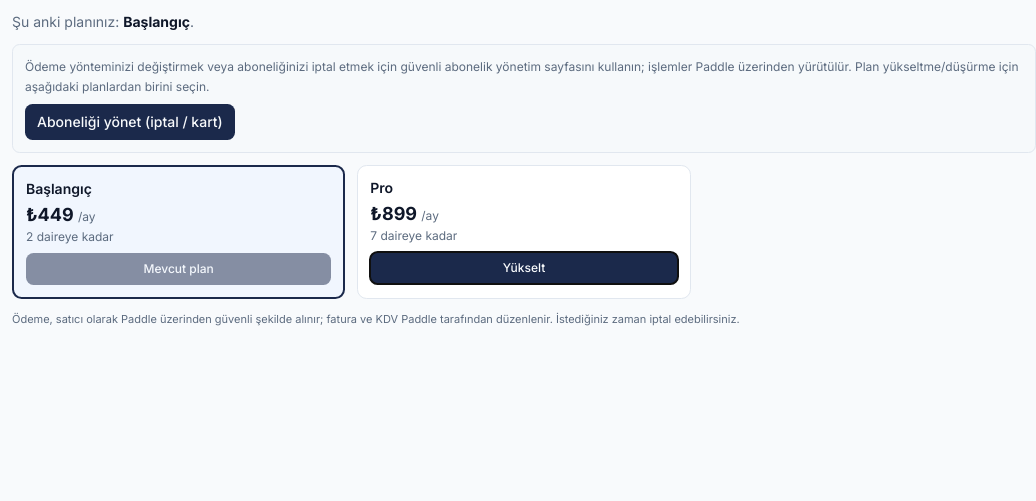
PaddlePlans — plan değişikliği onayı › 🚨 onay paneli açılınca odak panele geçer; 'Vazgeç' ile kapanınca paneli açan düğmeye döner
This screenshot has width=1036, height=501.
Later steps or results of the test are not shown.
Click the button "Yükselt" at (524, 268), box [370, 252, 678, 284]
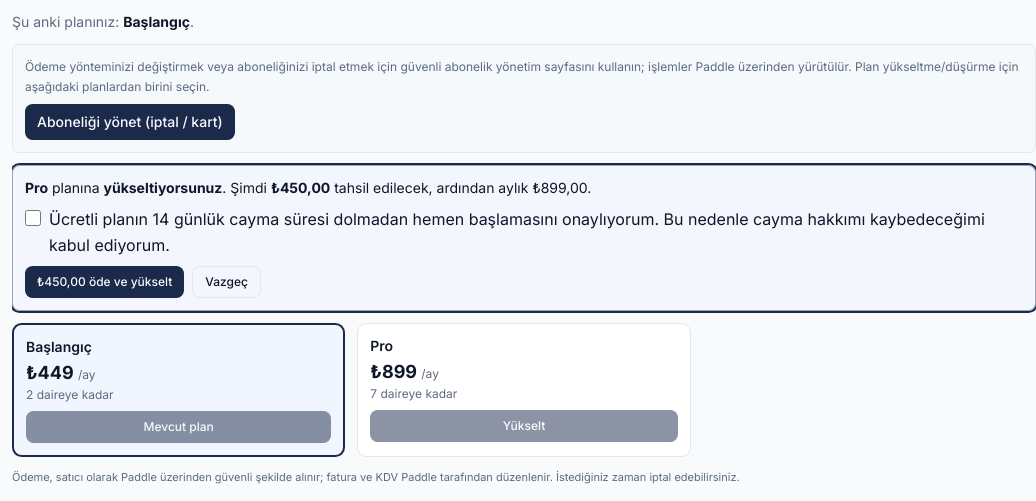
Click the checkbox named "consent-upgrade-immediateStart" at (33, 218), box [25, 210, 41, 226]
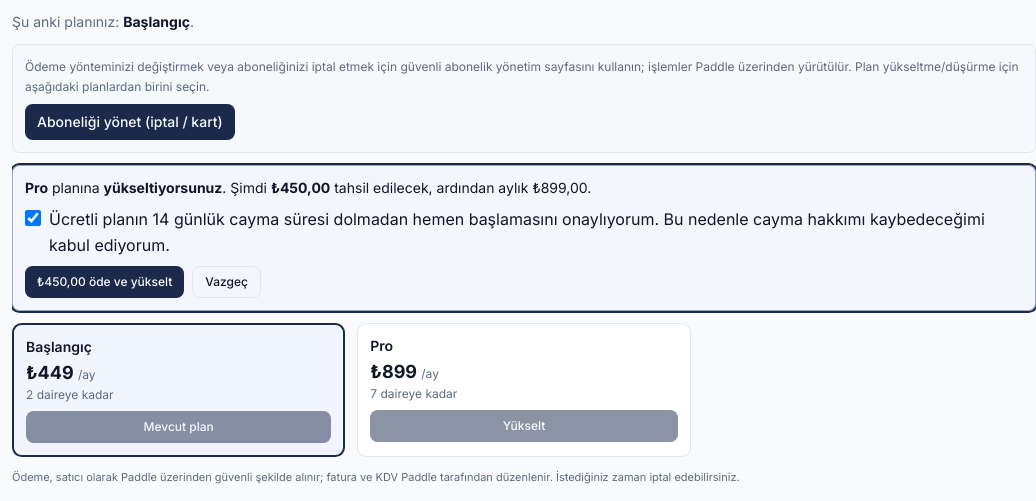
Now the element that starts with "Pro" shows "yükseltiyorsunuz", box [104, 179, 222, 196]
